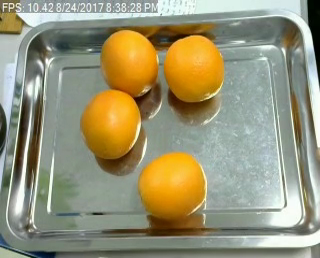Orange: (137, 152, 206, 218), (80, 89, 142, 159), (164, 35, 224, 102), (99, 28, 158, 95)
